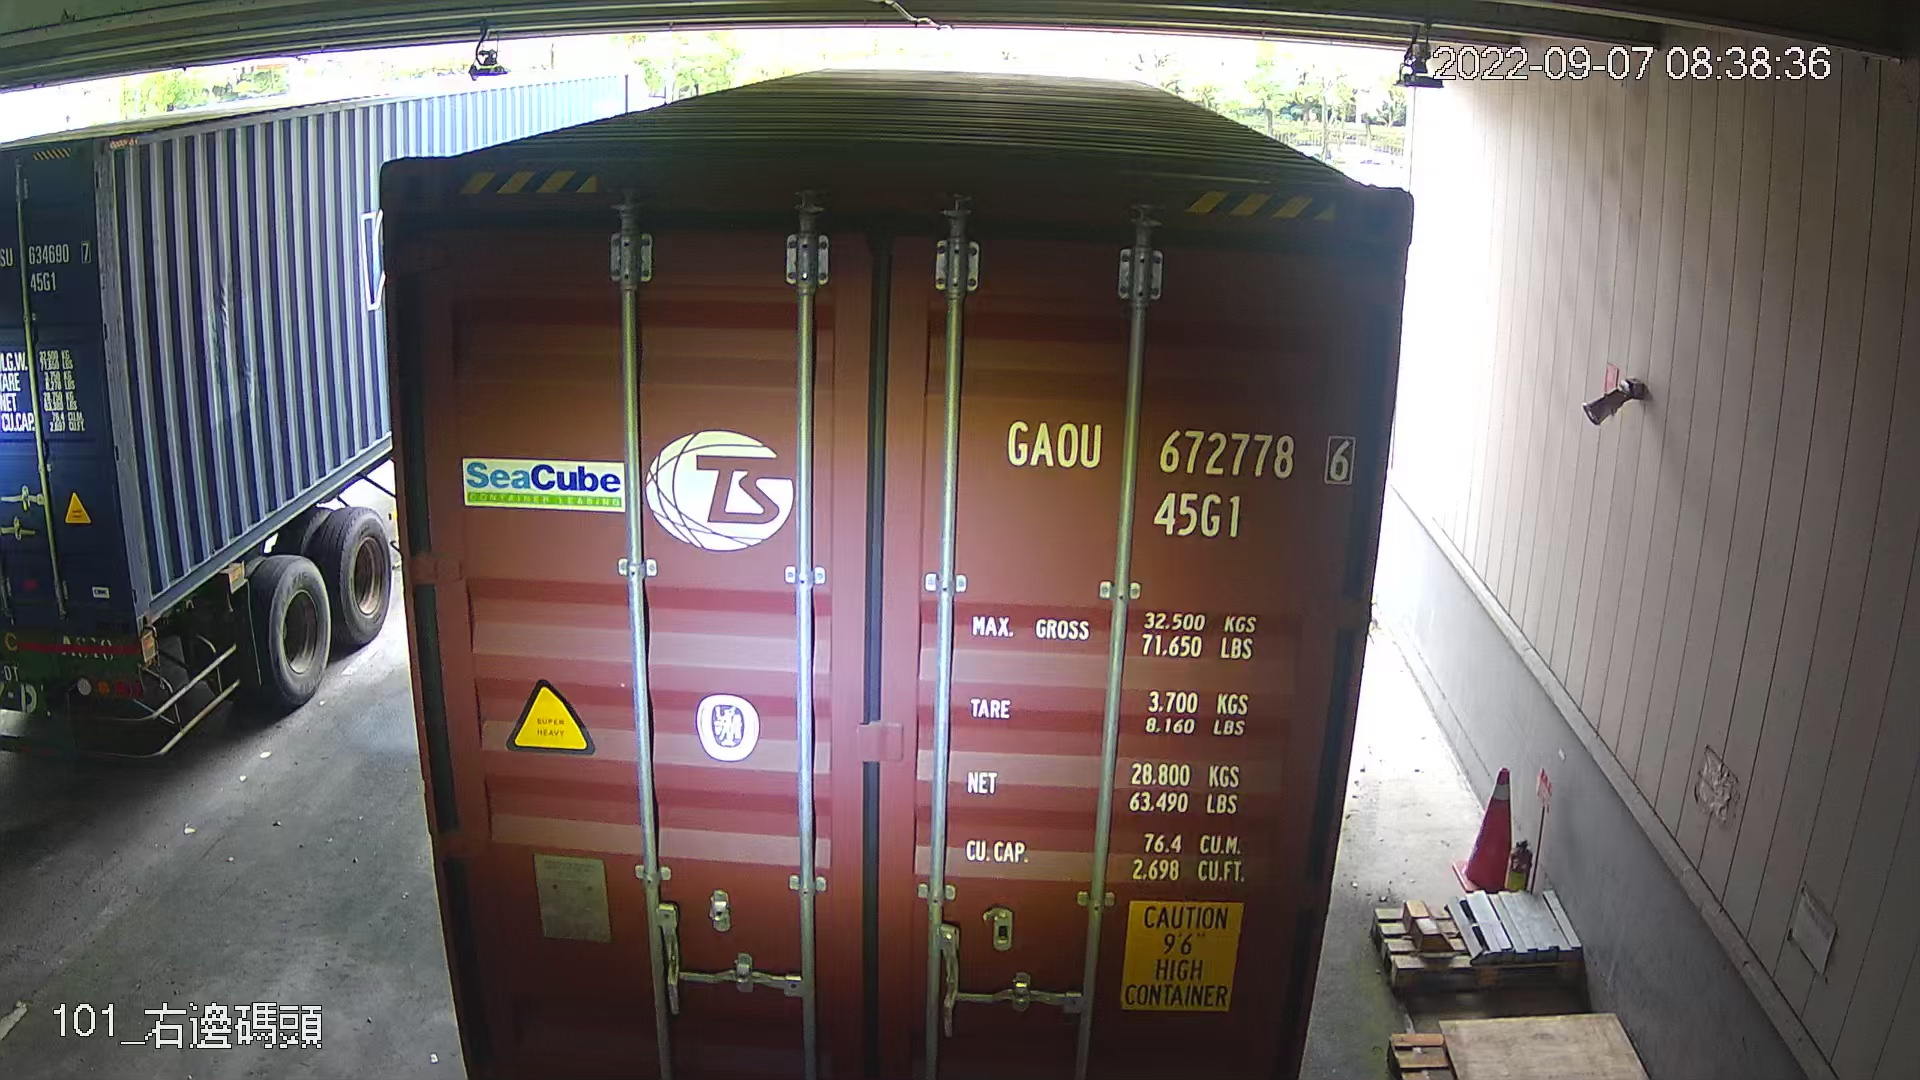container: (992, 404, 1364, 545)
